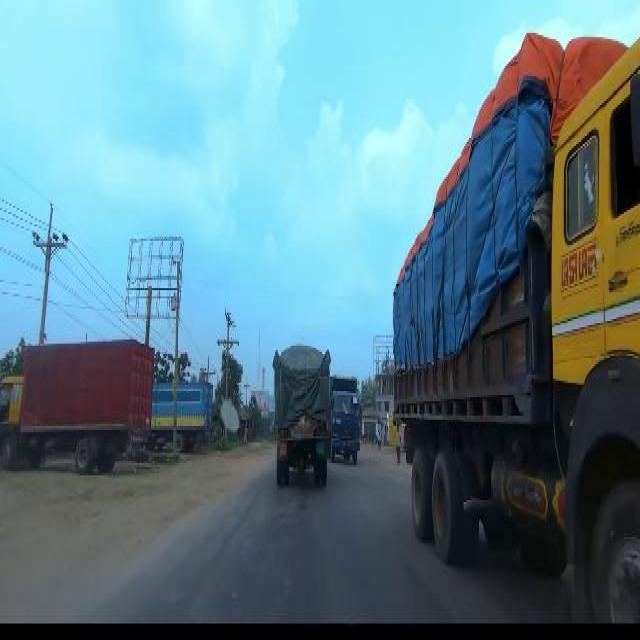truck: (392, 25, 638, 619), (1, 339, 153, 466), (271, 340, 329, 486), (152, 377, 210, 452), (331, 369, 364, 464)
